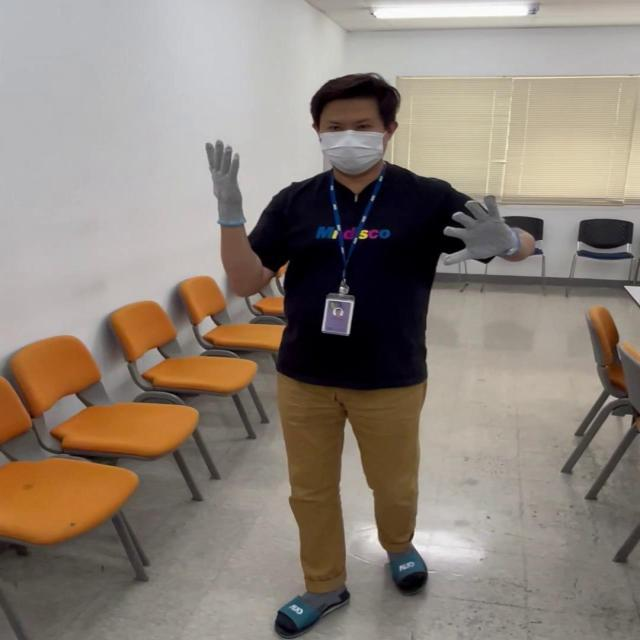gloved_hand: (440, 194, 514, 274), (206, 134, 257, 228)
